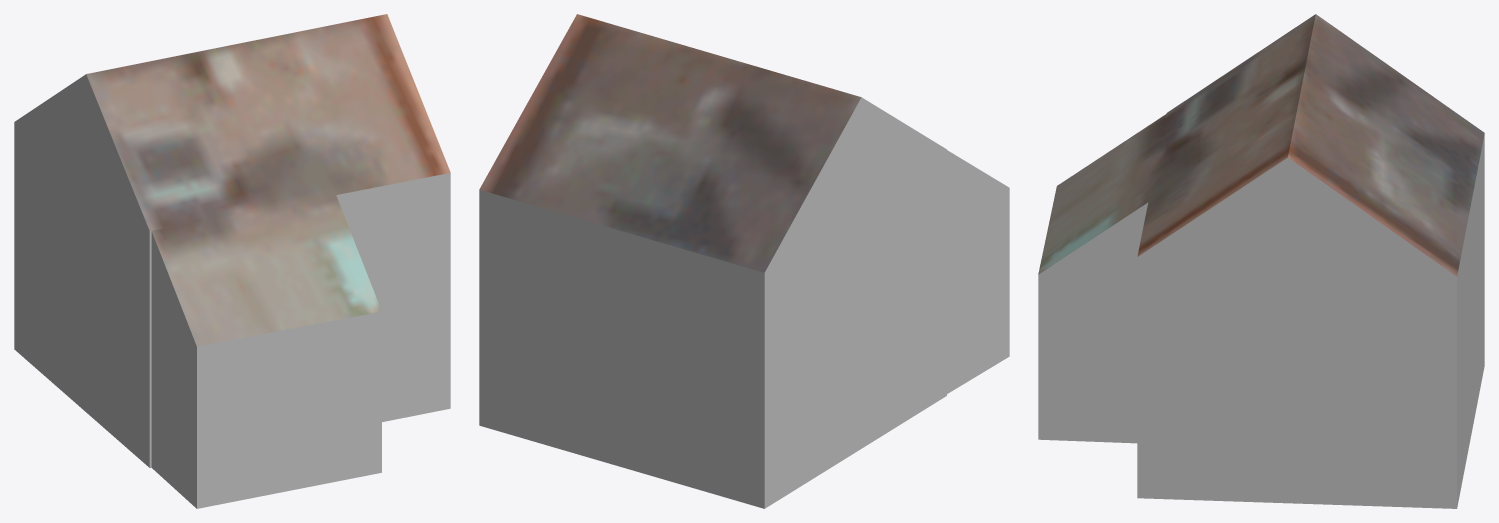
The model's file is DEBW_0010007Txd9.gltf.
3 views of the same model, side by side, from view 1: azimuth 30°, elevation 25°; view 2: azimuth 150°, elevation 25°; view 3: azimuth 270°, elevation 25° (orthographic). The views are drawn at different scales.
Visible parts, largest first — view 1: Z_UP; view 2: Z_UP; view 3: Z_UP.
Boxes of the visible parts, x1,y1,x2,y2 form: Z_UP: (14,14,450,508); Z_UP: (479,14,1009,508); Z_UP: (1038,14,1484,508).
Bounding box in the file's own units: 11.13 × 11.44 × 13.38.
Materials: 2 (1 with a texture image).
